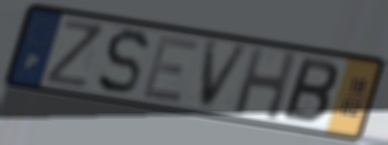B: (279, 54, 341, 127)
E: (138, 33, 203, 106)
H: (231, 45, 300, 125)
S: (95, 26, 152, 97)
V: (197, 39, 253, 112)
Z: (43, 17, 106, 92)
